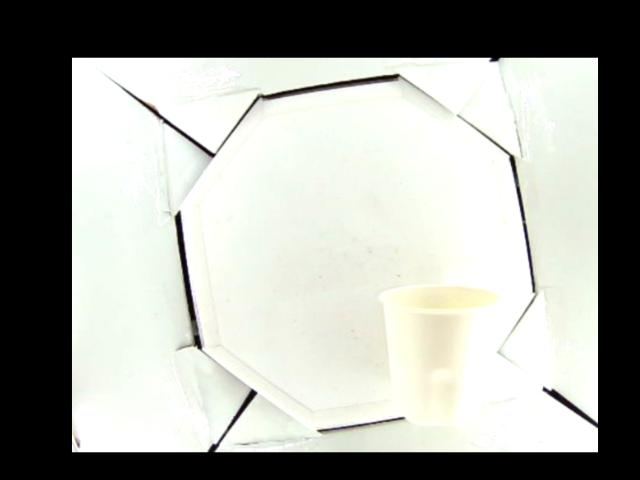Cup: (379, 281, 501, 424)
